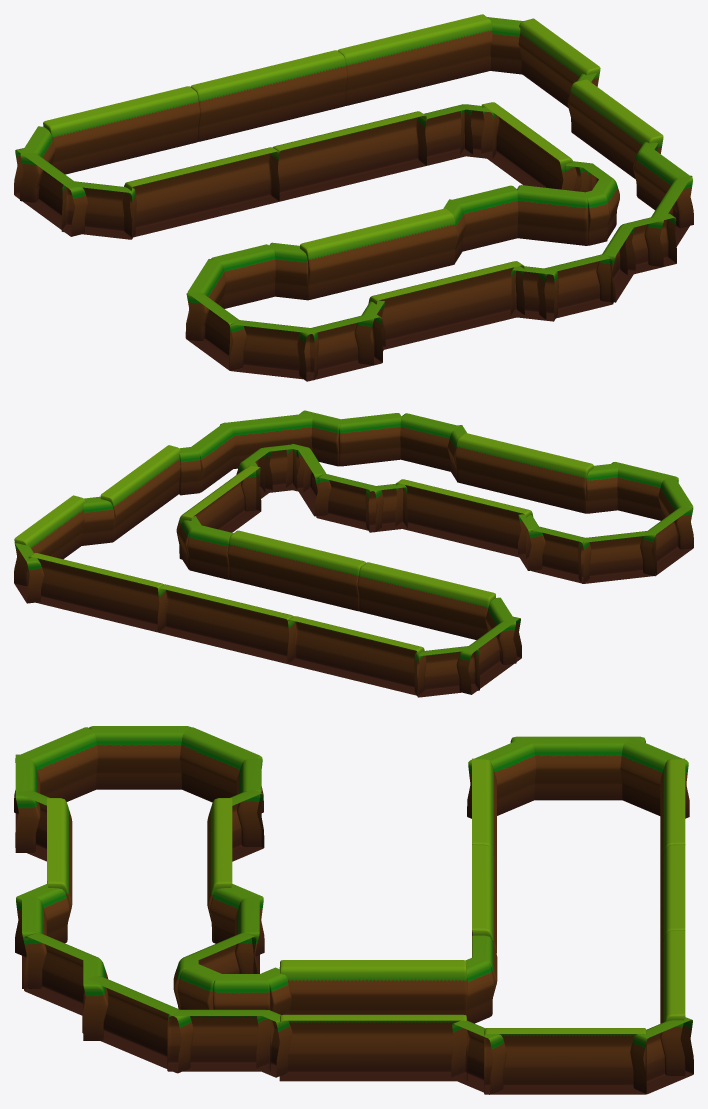
File: Map Ridges.fbx
The picture shows the model from 3 angles, top to bottom: view 1: azimuth 30°, elevation 25°; view 2: azimuth 150°, elevation 25°; view 3: azimuth 270°, elevation 25°; orthographic projection. The views are drawn at different scales.
Parts seen in each view (by area): view 1: RidgeS30; view 2: RidgeS30; view 3: RidgeS30.
Boxes of the visible parts, x1,y1,x2,y2 form: RidgeS30: (14, 14, 693, 381); RidgeS30: (14, 410, 693, 697); RidgeS30: (14, 726, 693, 1094).
Size of the model in its own units: 29.57 by 2.68 by 27.08.
